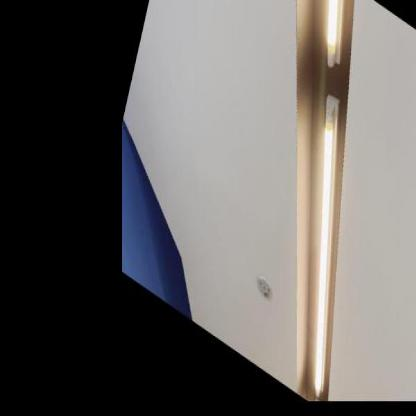light_on: (264, 87, 393, 413), (308, 0, 364, 82)
